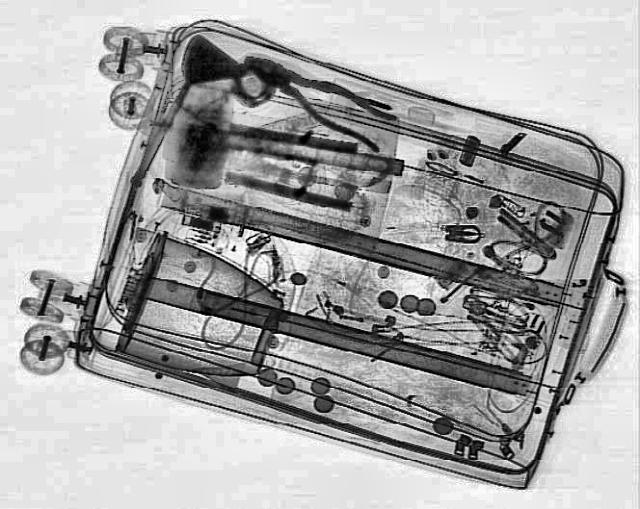Pliers: (226, 39, 408, 155)
